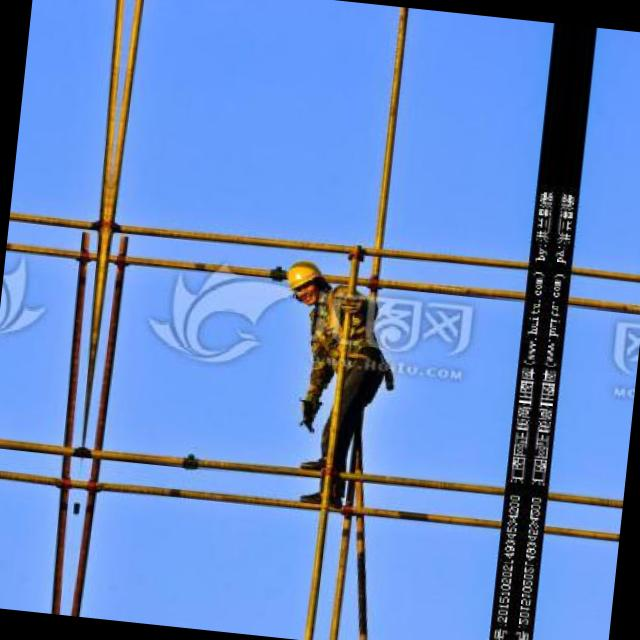helmet: (280, 255, 328, 307)
